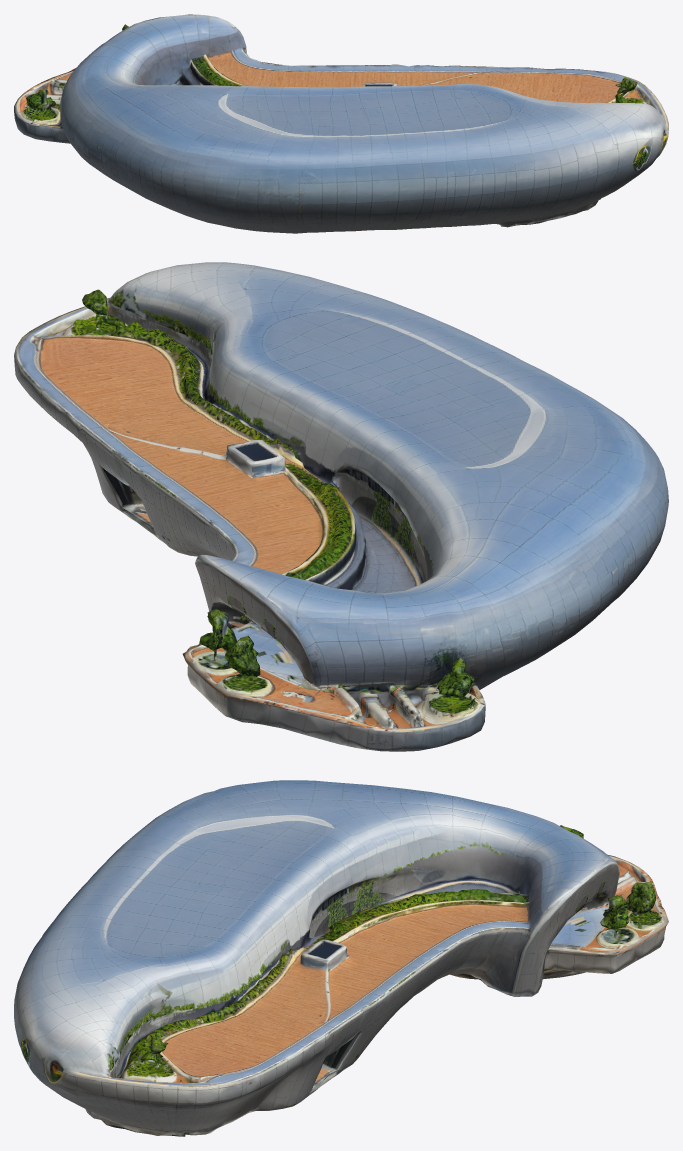
Rendered from DDP_윗동.glb.
3 views of the same model, one above another, from view 1: azimuth 30°, elevation 25°; view 2: azimuth 150°, elevation 25°; view 3: azimuth 270°, elevation 25° (orthographic). The views are drawn at different scales.
Visible parts, largest first — view 1: texture_mapping; view 2: texture_mapping; view 3: texture_mapping.
Boxes of the visible parts, bbox=[...] form: texture_mapping: bbox=[14, 14, 668, 233]; texture_mapping: bbox=[14, 262, 668, 751]; texture_mapping: bbox=[14, 780, 668, 1136].
Bounding box in the file's own units: 1 × 0.259 × 0.9716.
1 material, 1 textured.
